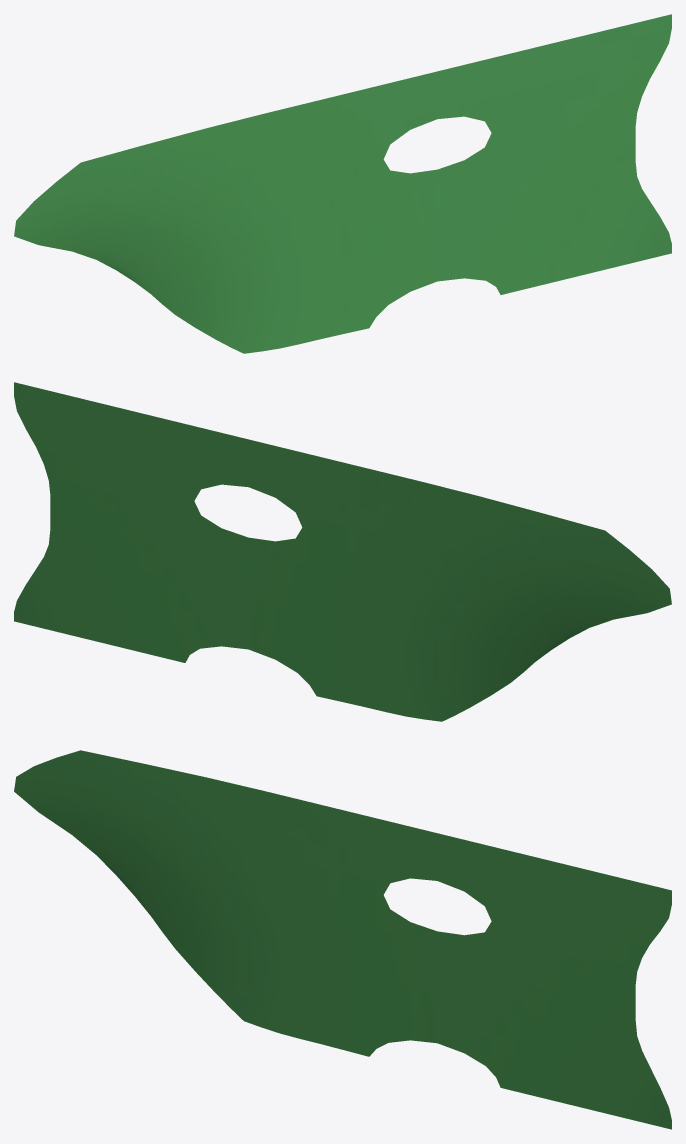
File: flag.fbx
3 views of the same model, one above another, from view 1: azimuth 30°, elevation 25°; view 2: azimuth 150°, elevation 25°; view 3: azimuth 330°, elevation 25° (orthographic).
Visible parts, largest first — view 1: flag; view 2: flag; view 3: flag.
Boxes of the visible parts, x1,y1,x2,y2 form: flag: (14, 14, 671, 353); flag: (14, 382, 671, 721); flag: (14, 750, 671, 1129).
Size of the model in its own units: 417 by 145 by 0.00267.
Materials: 1 (1 with a texture image).
